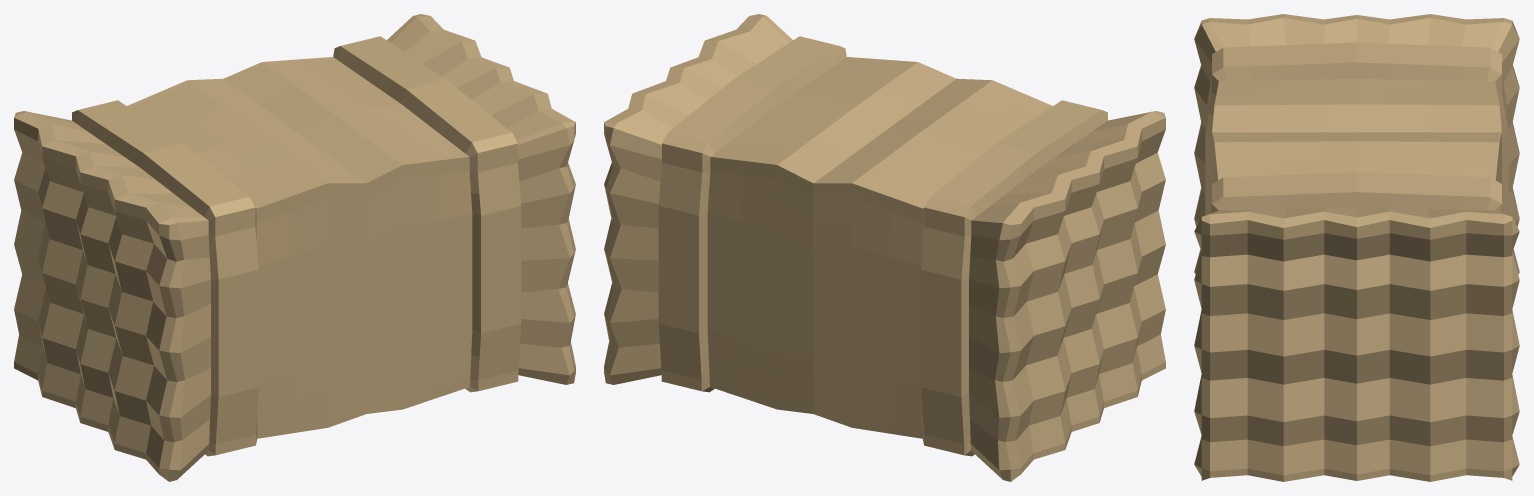
File: heinapaali.fbx
3 renders of one model, left to right at view 1: azimuth 30°, elevation 25°; view 2: azimuth 150°, elevation 25°; view 3: azimuth 270°, elevation 25°, orthographic.
Visible parts, largest first — view 1: heinapaali; view 2: heinapaali; view 3: heinapaali.
Part boxes in pixels (<box>): heinapaali: <box>14,14,575,481</box>; heinapaali: <box>604,14,1165,481</box>; heinapaali: <box>1194,14,1519,481</box>.
Bounding box in the file's own units: 186 × 107 × 119.
